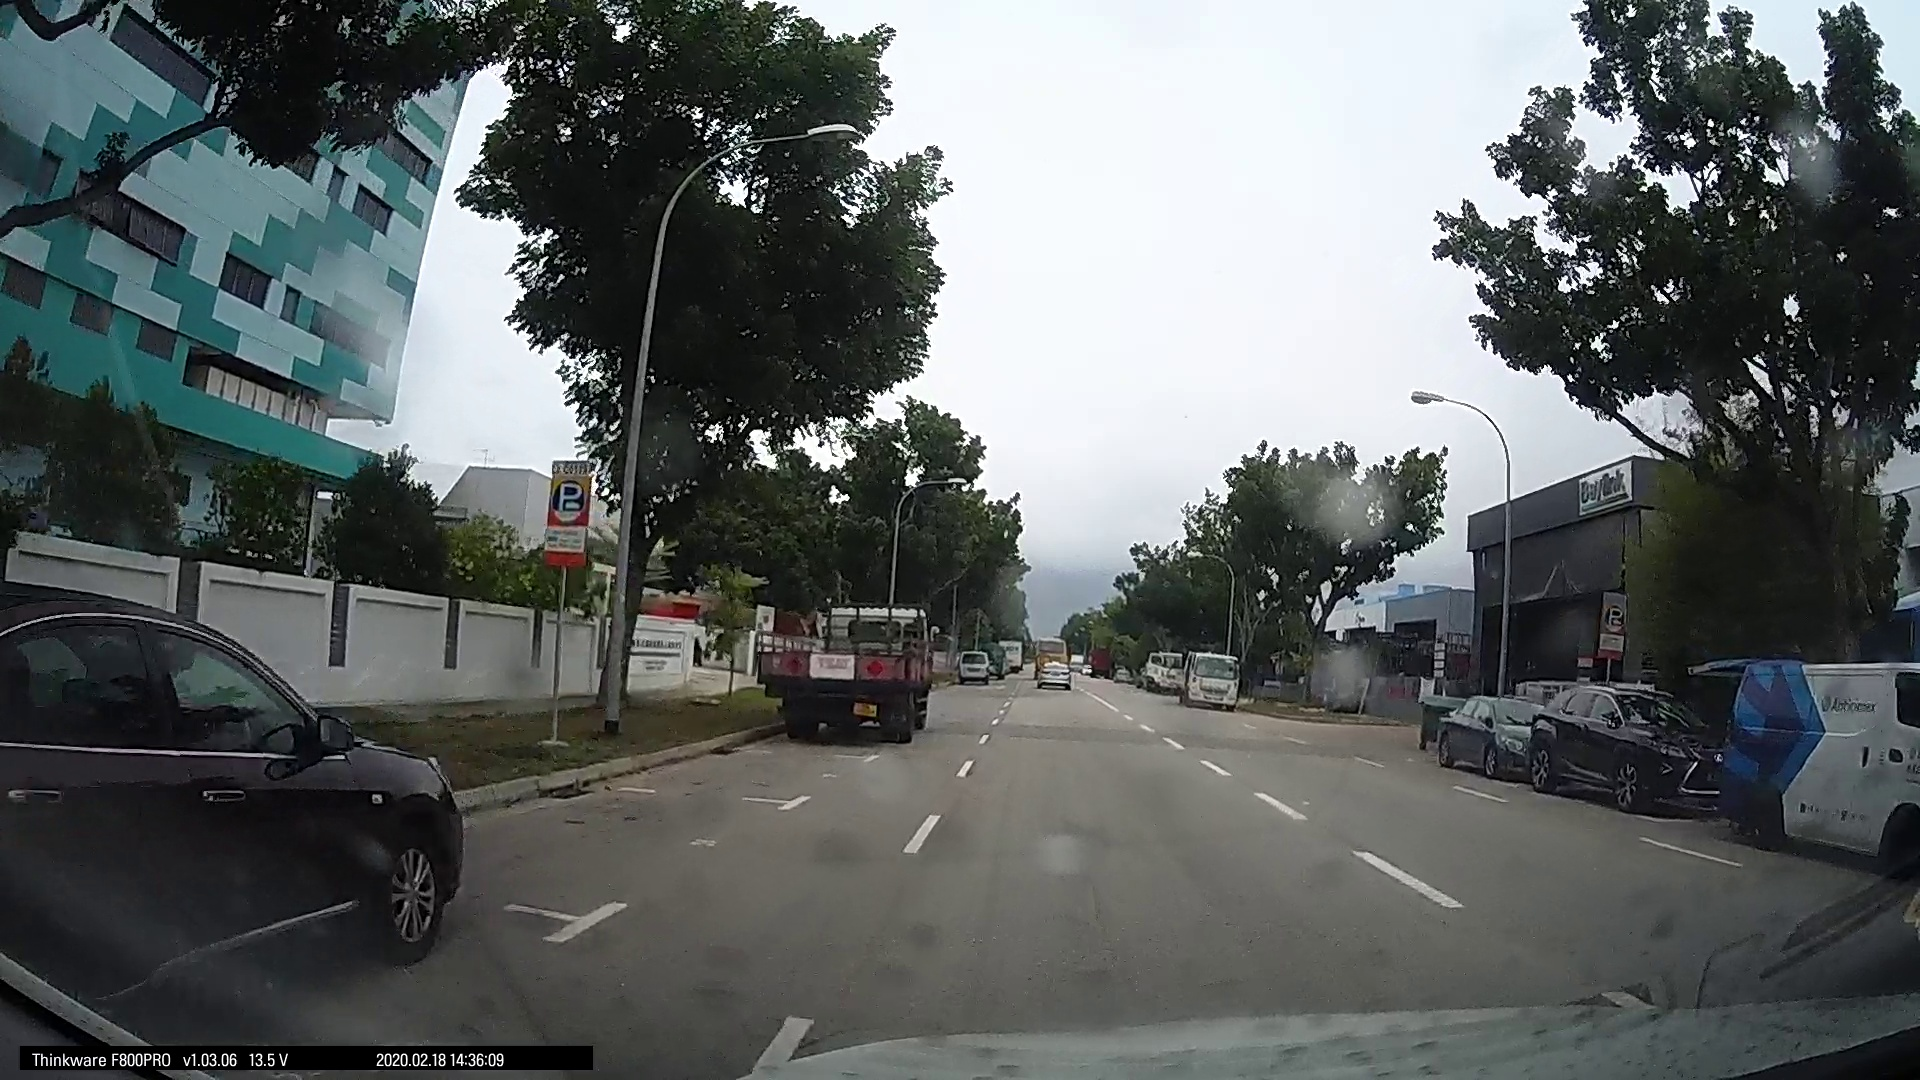Heavy Vehicle: (1717, 650, 1919, 862), (767, 596, 939, 745)
Light Vehicle: (3, 603, 481, 1000), (1716, 647, 1919, 858), (1520, 678, 1734, 810), (1429, 686, 1535, 782), (1174, 647, 1238, 705), (1029, 646, 1072, 687), (949, 644, 994, 683)
